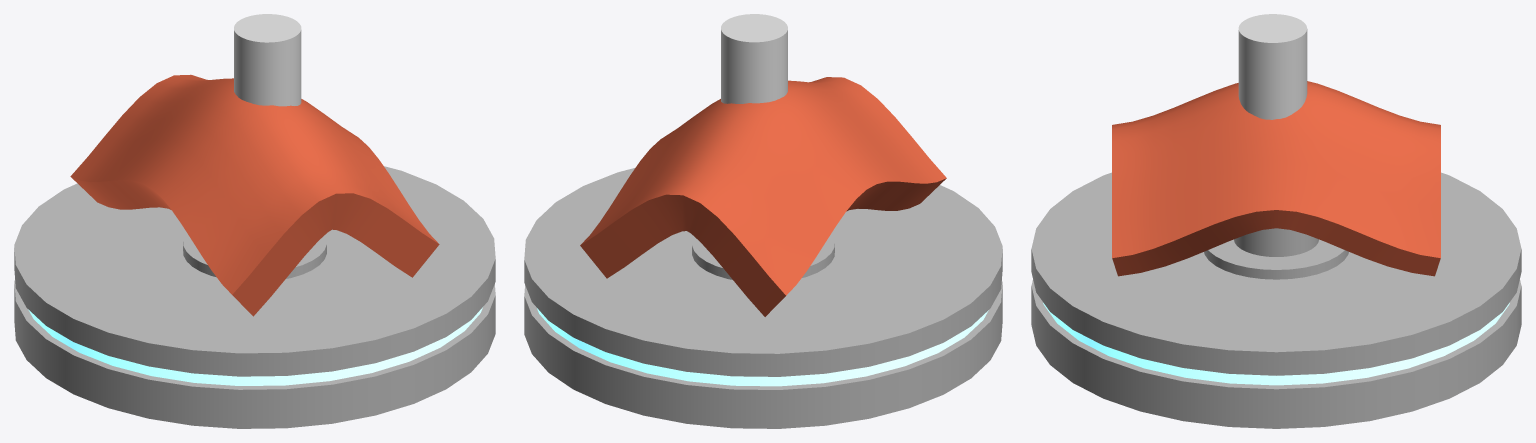
Rendered from robot_platform.fbx.
3 views of the same model, side by side, from view 1: azimuth 30°, elevation 25°; view 2: azimuth 150°, elevation 25°; view 3: azimuth 270°, elevation 25° (orthographic). The views are drawn at different scales.
Visible parts, largest first — view 1: robot_platform; view 2: robot_platform; view 3: robot_platform.
Boxes of the visible parts, box(x1,y1,x2,y2) form: robot_platform: box(14, 14, 495, 428); robot_platform: box(524, 14, 1002, 428); robot_platform: box(1031, 14, 1521, 428).
Size of the model in its own units: 0.5557 by 0.3783 by 0.5557.
